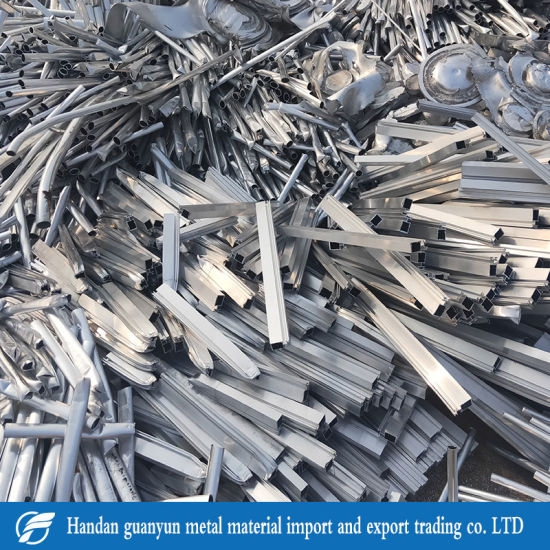metal: (339, 267, 475, 417), (189, 15, 346, 115), (140, 268, 261, 394), (235, 189, 301, 358), (215, 115, 318, 205), (270, 207, 420, 268), (182, 362, 294, 439), (23, 110, 83, 246), (39, 368, 95, 499), (465, 107, 550, 189), (1, 401, 140, 451), (70, 93, 165, 163), (412, 35, 490, 110), (408, 198, 505, 246), (143, 193, 189, 293), (4, 67, 130, 101), (1, 284, 87, 327), (185, 433, 236, 500), (10, 39, 118, 68), (368, 388, 417, 448), (414, 88, 489, 121), (431, 439, 467, 502), (339, 188, 413, 213)
